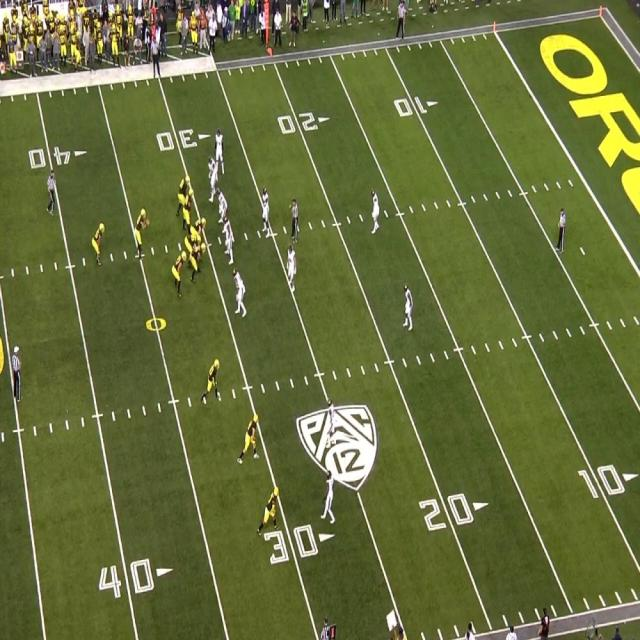center: (193, 215, 207, 239)
db: (323, 471, 336, 519), (404, 285, 416, 331), (326, 402, 336, 442), (215, 128, 224, 166), (372, 190, 380, 230)
lb: (285, 242, 299, 285), (207, 152, 217, 185), (262, 189, 270, 230)
qb: (134, 208, 148, 257)
